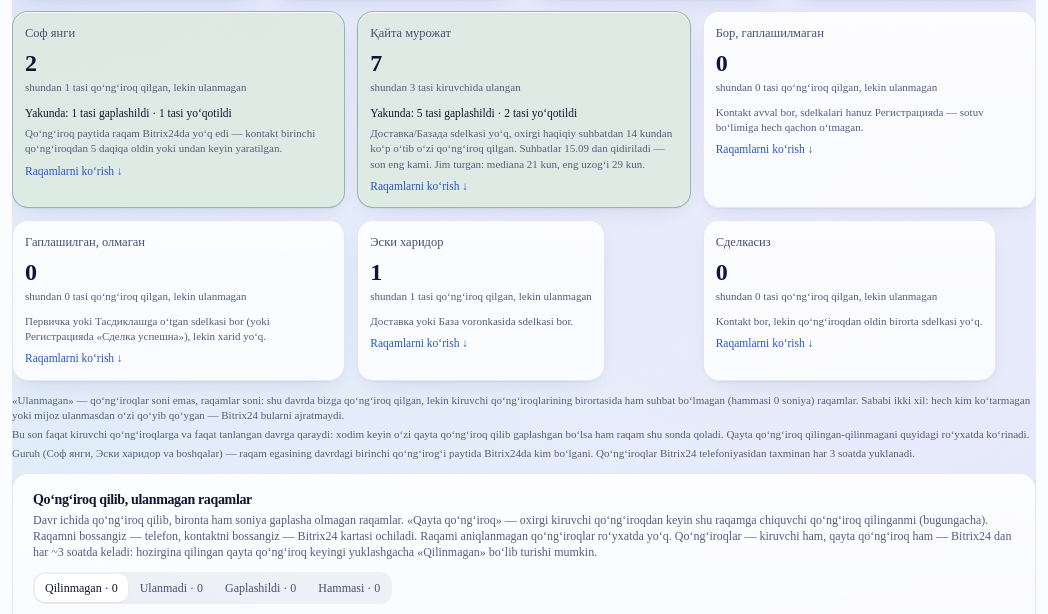
Test case: a pressed group tile › opens «Соф янги» as its numbers, oldest first, with the sheet columns
What coordinates should you click on to do the following:
click the button "Соф янги"
I would click on:
 (179, 109)
Its box is [12,11,345,208].
(page scrolled)
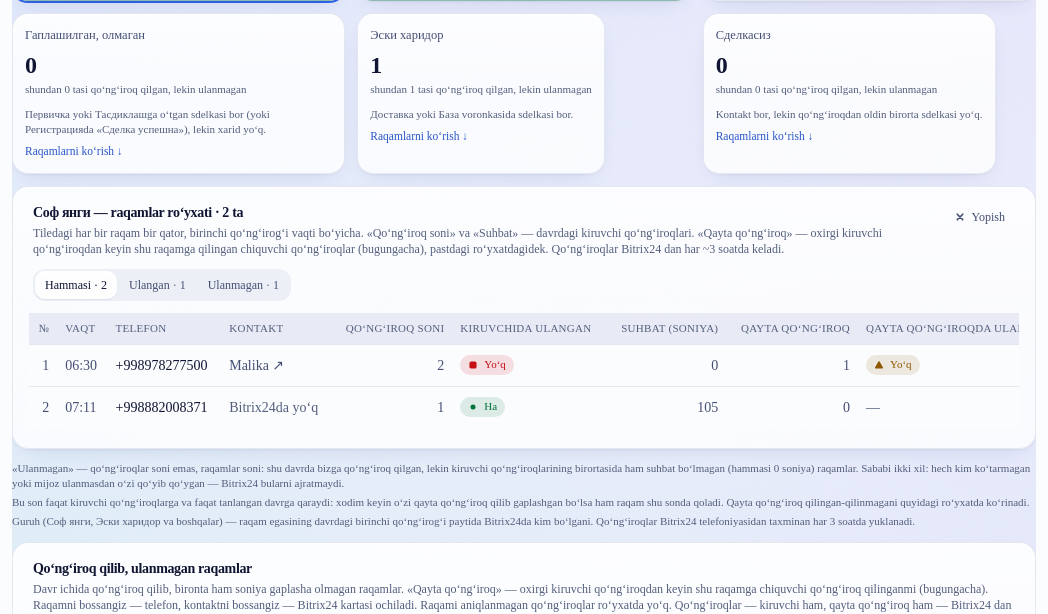
Now the column heading "№" is shown, box [29,313,57,345]
Now the column heading "Vaqt" is shown, box [57,313,108,345]
Now the column heading "Telefon" is shown, box [108,313,221,345]
